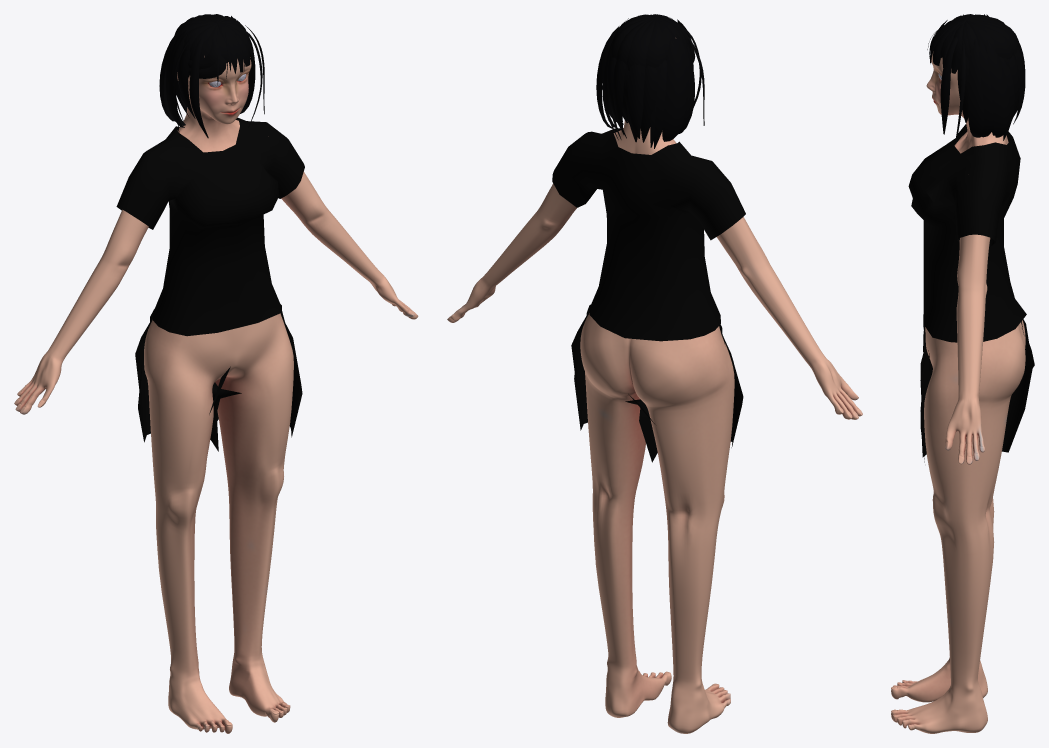
The model's file is Hair.fbx.
The picture shows the model from 3 angles, left to right: view 1: azimuth 30°, elevation 25°; view 2: azimuth 150°, elevation 25°; view 3: azimuth 270°, elevation 25°; orthographic projection. The views are drawn at different scales.
Parts seen in each view (by area): view 1: Body, Cloth, Hair; view 2: Body, Cloth, Hair; view 3: Body, Cloth, Hair.
Part boxes in pixels (x1,y1,x2,y2): Body: [14, 56, 418, 733]; Cloth: [116, 117, 304, 451]; Hair: [159, 14, 264, 138]; Body: [447, 120, 862, 733]; Cloth: [552, 128, 745, 462]; Hair: [596, 14, 704, 148]; Body: [891, 51, 1025, 733]; Cloth: [908, 124, 1034, 462]; Hair: [927, 14, 1025, 141].
Size of the model in its own units: 104 by 171 by 32.13.
